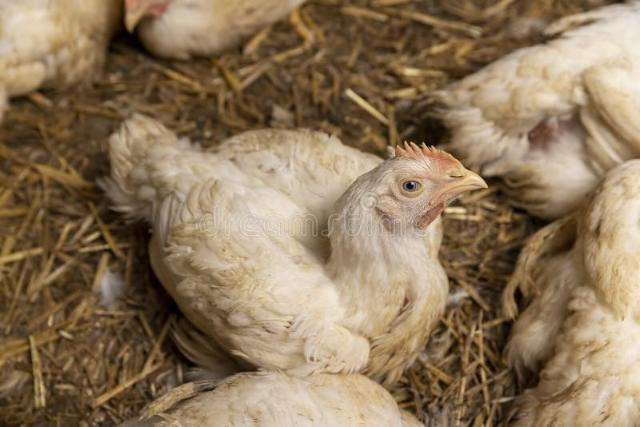Chicken: (104, 112, 488, 377)
